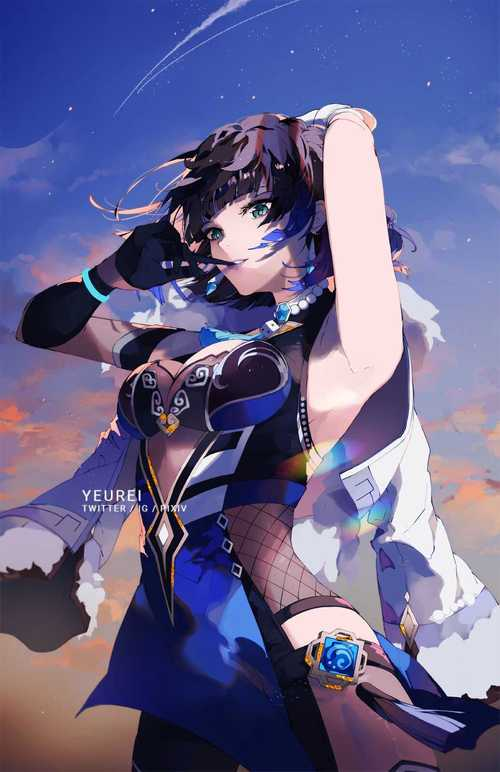夜兰: (16, 106, 443, 772)
